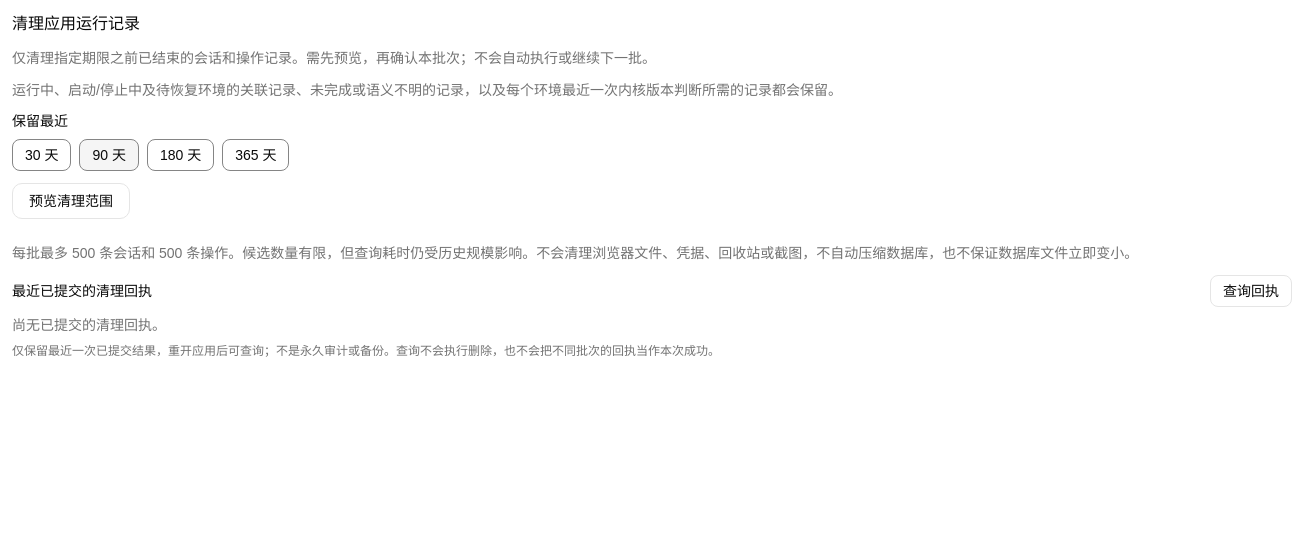
it: shows a truthful empty state and never enables irreversible confirmation for an empty batch
This screenshot has width=1304, height=560.
Step 1. Click the button "预览清理范围" → {"x": 71, "y": 201}, box [12,183,130,219]
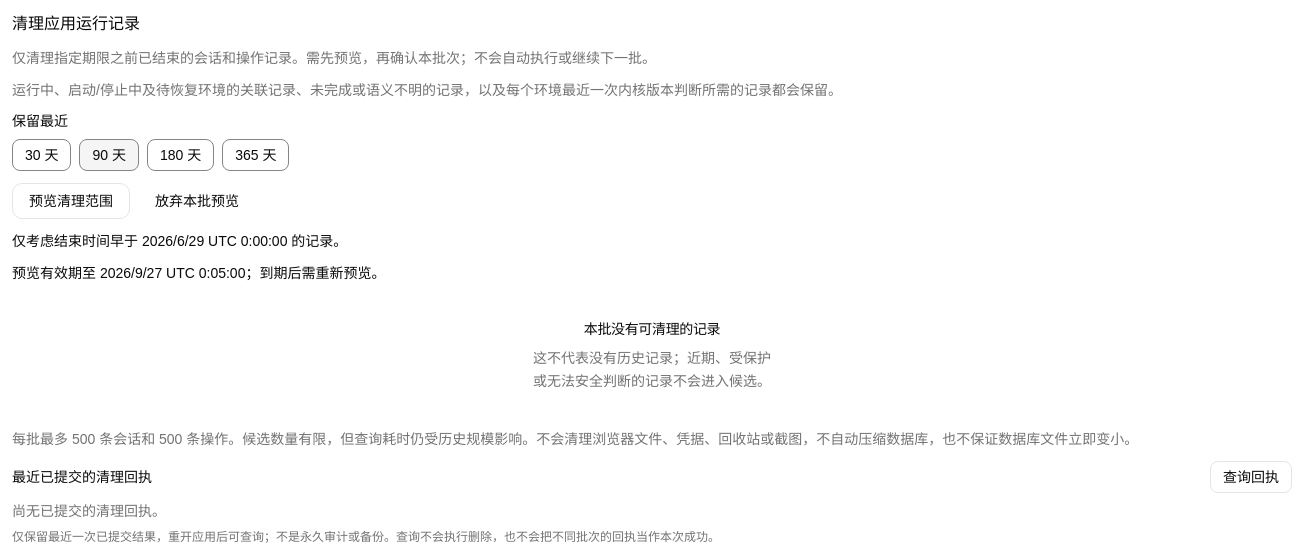
expect the text "本批没有可清理的记录" is shown: met, box [584,319,720,339]
expect the text "这不代表没有历史记录" is shown: met, box [533,350,771,389]
